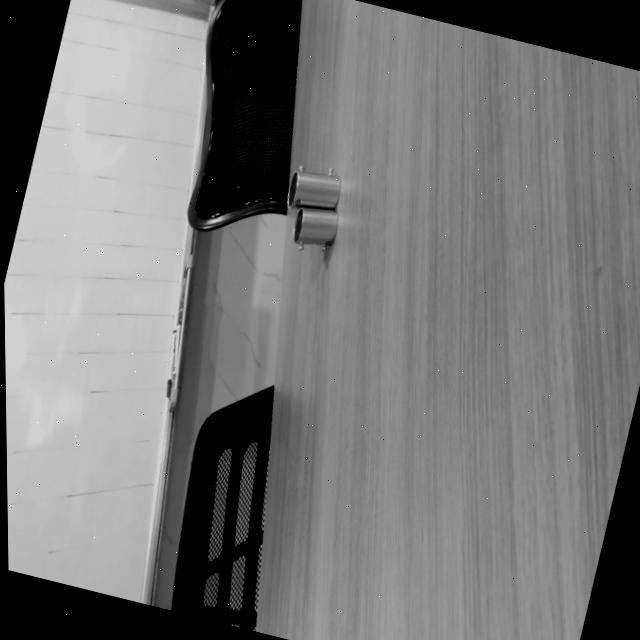Co_Lon: (286, 164, 342, 212)
Co_Nho: (292, 205, 339, 247)
